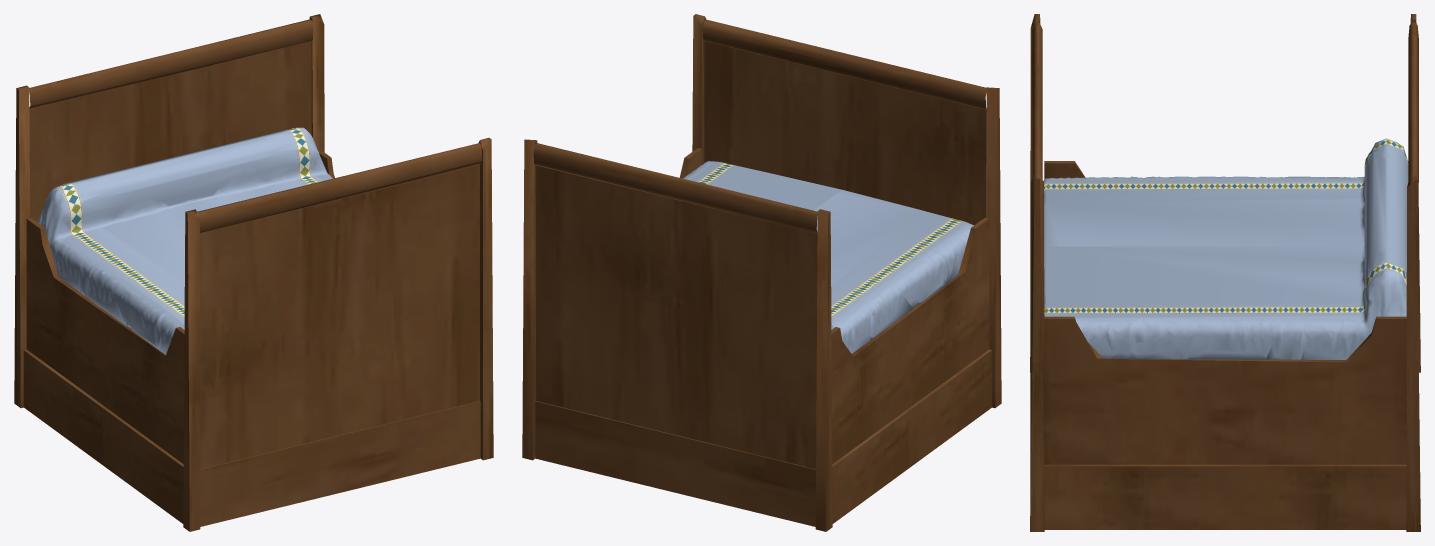
The model's file is sh-scopia-captains-bed.glb.
3 renders of one model, left to right at view 1: azimuth 30°, elevation 25°; view 2: azimuth 150°, elevation 25°; view 3: azimuth 270°, elevation 25°, orthographic. The views are drawn at different scales.
Parts seen in each view (by area): view 1: Cylinder, mattress_Cube.001; view 2: Cylinder, mattress_Cube.001; view 3: Cylinder, mattress_Cube.001.
Part boxes in pixels (left/top/right/bottom): Cylinder: left=14, top=14, right=493, bottom=531; mattress_Cube.001: left=38, top=127, right=332, bottom=354; Cylinder: left=522, top=14, right=1001, bottom=531; mattress_Cube.001: left=683, top=161, right=973, bottom=353; Cylinder: left=1030, top=14, right=1420, bottom=531; mattress_Cube.001: left=1043, top=138, right=1408, bottom=359.
Size of the model in its own units: 1 by 1 by 1.
Materials: 2 (2 with a texture image).
